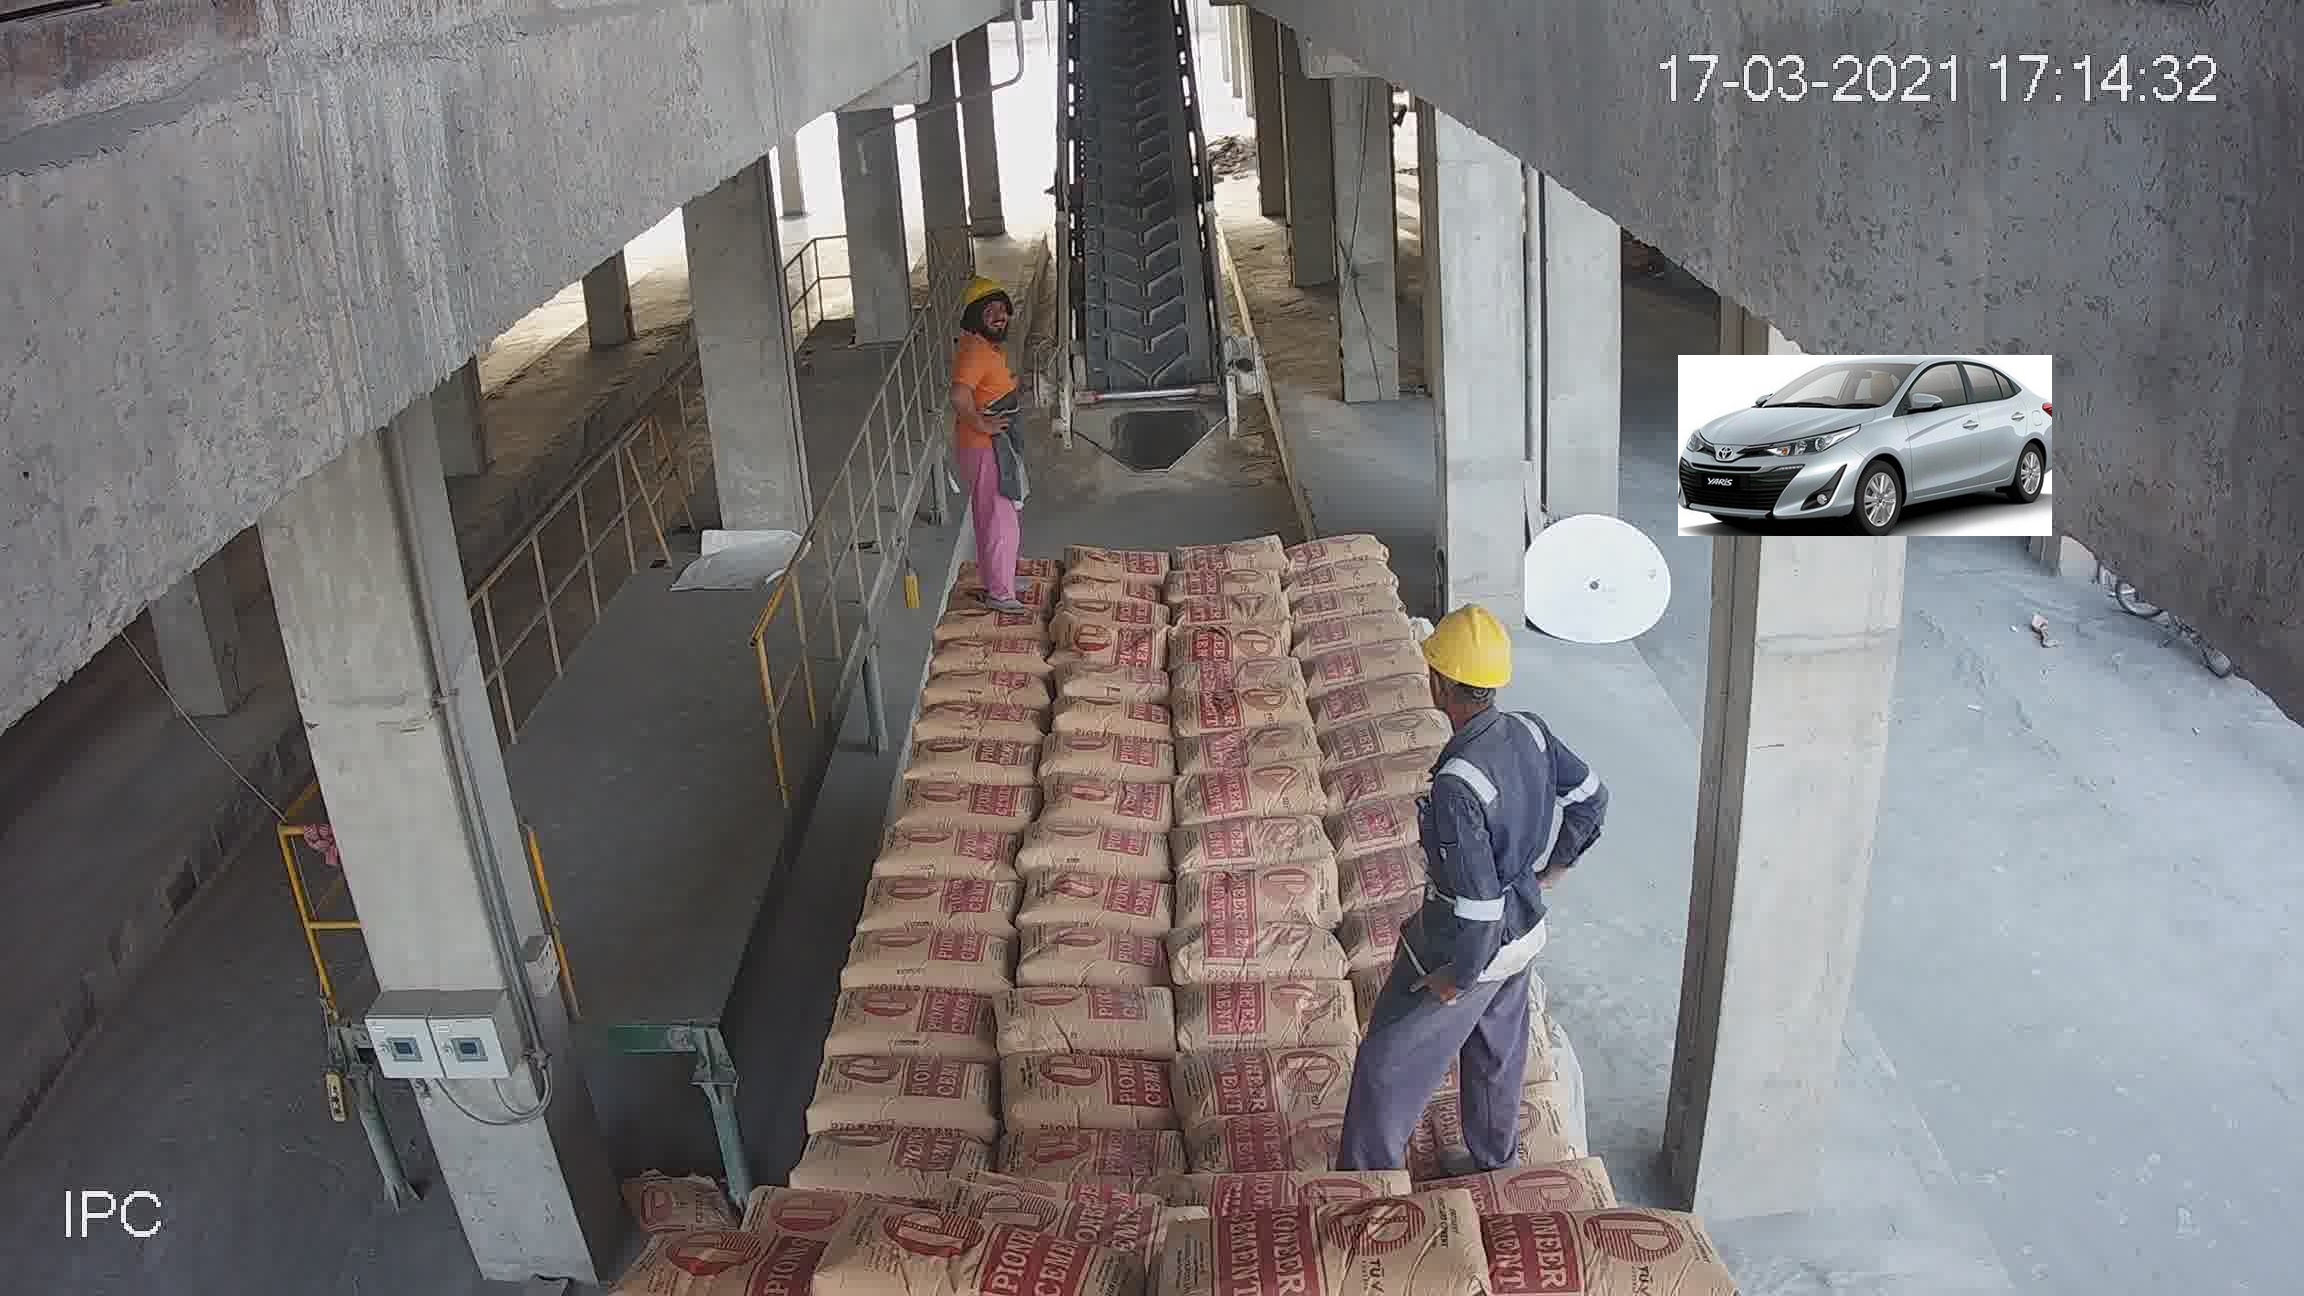bag_h: (1206, 1179, 1480, 1296), (802, 1218, 1127, 1294), (1472, 1203, 1715, 1285), (1165, 1049, 1364, 1136), (802, 1057, 1003, 1136), (1002, 1059, 1182, 1139), (1174, 983, 1366, 1059), (641, 1223, 845, 1294), (786, 1133, 999, 1195), (1005, 987, 1184, 1059), (831, 981, 1000, 1055), (858, 875, 1024, 946), (997, 1125, 1188, 1187), (1173, 921, 1348, 987), (837, 927, 1013, 994), (1179, 861, 1339, 934), (1177, 809, 1329, 877), (1182, 760, 1332, 828), (1022, 815, 1166, 885), (1017, 873, 1184, 934), (1014, 934, 1176, 991), (869, 829, 1022, 885), (1418, 1154, 1605, 1198), (891, 782, 1040, 836), (1046, 774, 1177, 832), (907, 696, 1054, 745), (1185, 722, 1324, 772), (905, 737, 1040, 790), (1176, 687, 1318, 736), (1173, 654, 1310, 703), (1317, 753, 1434, 809), (1324, 709, 1437, 764), (1046, 741, 1174, 786), (1063, 612, 1163, 671), (907, 665, 1036, 707), (1060, 658, 1169, 707), (1169, 619, 1288, 661), (1051, 699, 1160, 745), (923, 636, 1052, 673), (1182, 541, 1299, 581), (1296, 582, 1404, 625), (1304, 641, 1412, 684), (1334, 799, 1412, 858), (1305, 619, 1419, 658), (1336, 850, 1415, 907), (1171, 592, 1294, 628), (1065, 540, 1169, 582), (1288, 524, 1389, 567), (1166, 568, 1285, 604), (1055, 598, 1173, 633), (1312, 684, 1400, 726), (1052, 571, 1165, 604), (1296, 559, 1400, 593), (926, 601, 1044, 631)
belt: (1052, 30, 1230, 438)
